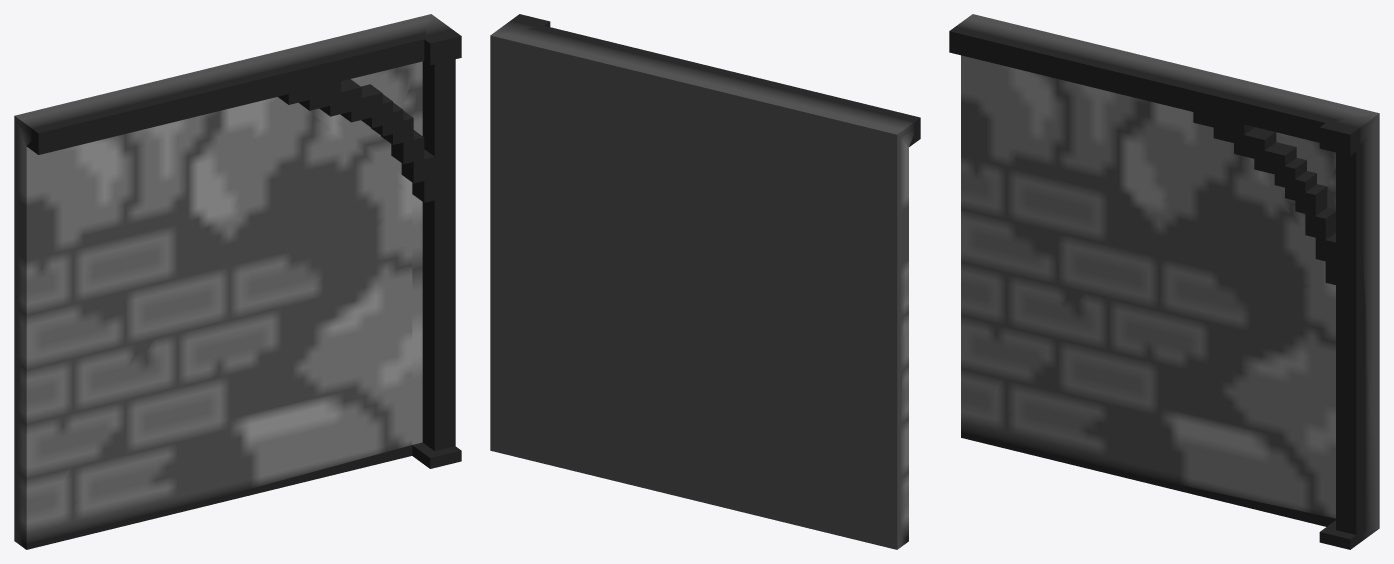
File: WallBrick_SR.fbx
3 views of the same model, side by side, from view 1: azimuth 30°, elevation 25°; view 2: azimuth 150°, elevation 25°; view 3: azimuth 330°, elevation 25° (orthographic). The views are drawn at different scales.
Visible parts, largest first — view 1: WallBrick_SR.Merged; view 2: WallBrick_SR.Merged; view 3: WallBrick_SR.Merged.
Boxes of the visible parts, box(x1,y1,x2,y2) form: WallBrick_SR.Merged: box(14, 14, 461, 549); WallBrick_SR.Merged: box(490, 14, 920, 549); WallBrick_SR.Merged: box(949, 14, 1379, 549).
Bounding box in the file's own units: 1000 × 8000 × 7800.
